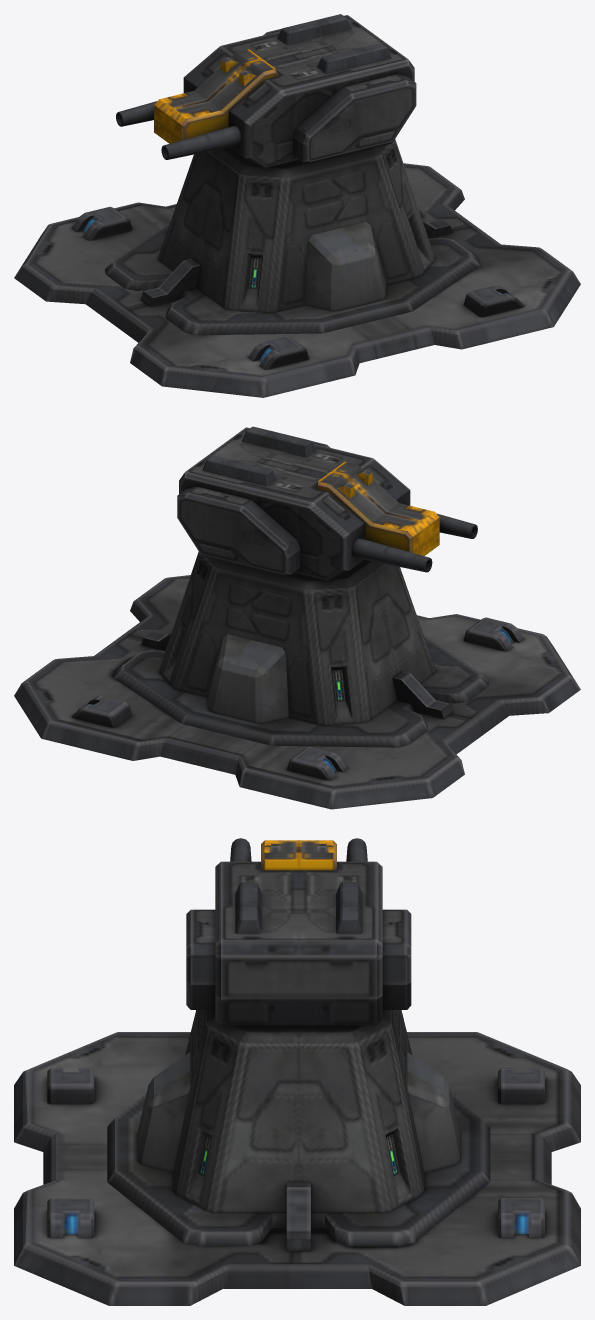
Rendered from Light_Defense-Tower.FBX.
The picture shows the model from 3 angles, top to bottom: view 1: azimuth 30°, elevation 25°; view 2: azimuth 150°, elevation 25°; view 3: azimuth 270°, elevation 25°; orthographic projection. The views are drawn at different scales.
Visible parts, largest first — view 1: Light_Defense-Tower, Light_Defense-Tower_Laser; view 2: Light_Defense-Tower, Light_Defense-Tower_Laser; view 3: Light_Defense-Tower, Light_Defense-Tower_Laser.
Part boxes in pixels (<box>): Light_Defense-Tower: <box>14,139,580,397</box>; Light_Defense-Tower_Laser: <box>116,14,416,169</box>; Light_Defense-Tower: <box>14,551,580,809</box>; Light_Defense-Tower_Laser: <box>177,426,477,581</box>; Light_Defense-Tower: <box>14,1010,580,1305</box>; Light_Defense-Tower_Laser: <box>186,838,411,1025</box>.
Size of the model in its own units: 1109 by 592 by 1019.
